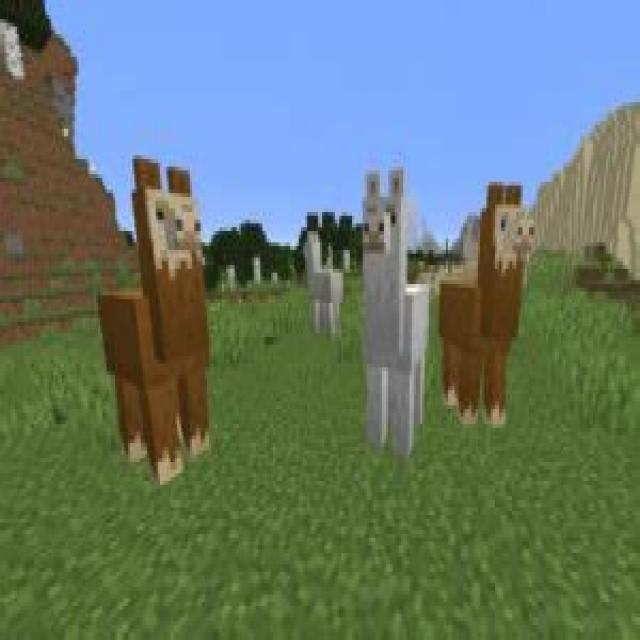Llama: (97, 159, 219, 492), (438, 161, 534, 426), (357, 162, 432, 450)
